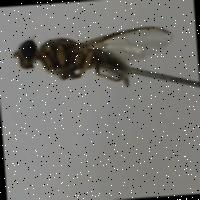Oriental-fruit-fly: (7, 10, 184, 98)
